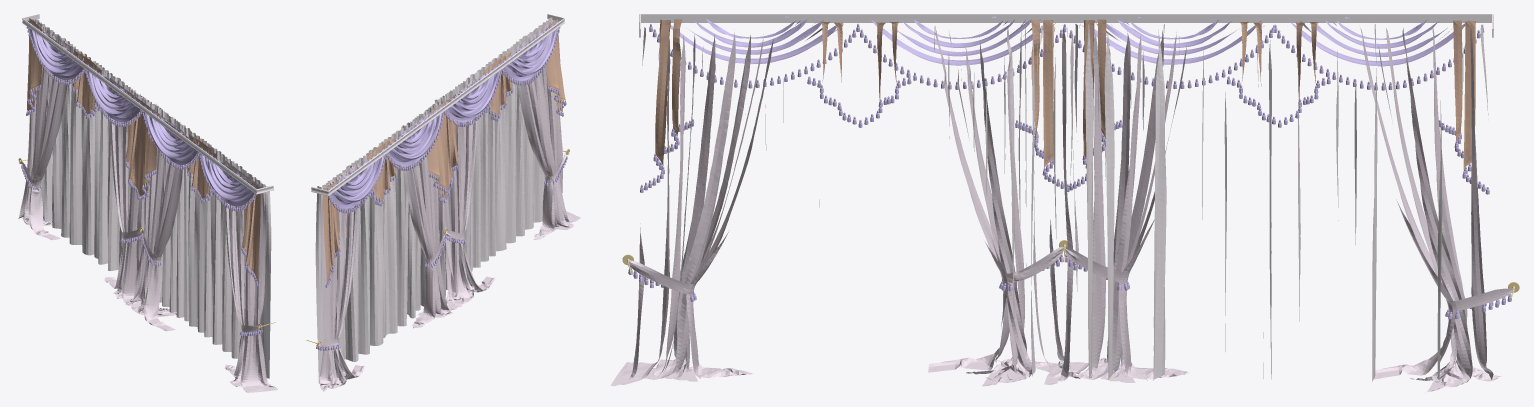
Rendered from curtain.glb.
3 views of the same model, side by side, from view 1: azimuth 30°, elevation 25°; view 2: azimuth 150°, elevation 25°; view 3: azimuth 270°, elevation 25° (orthographic). The views are drawn at different scales.
Parts seen in each view (by area): view 1: 2, 1, 4, 3, cornice, brush1, brush2, brush3; view 2: 2, 1, 4, 3, cornice, brush1, brush2, brush3; view 3: 1, 2, 3, 4, cornice, brush2, brush1, brush3.
Boxes of the visible parts, x1=… form: 2: x1=35, y1=19, x2=271, y2=378; 1: x1=18, y1=19, x2=277, y2=392; 4: x1=27, y1=20, x2=256, y2=206; 3: x1=27, y1=18, x2=260, y2=280; cornice: x1=22, y1=14, x2=273, y2=194; brush1: x1=26, y1=27, x2=256, y2=211; brush2: x1=26, y1=83, x2=258, y2=286; brush3: x1=21, y1=163, x2=262, y2=335; 2: x1=315, y1=17, x2=552, y2=383; 1: x1=319, y1=20, x2=580, y2=391; 4: x1=328, y1=20, x2=559, y2=208; 3: x1=322, y1=19, x2=565, y2=282; cornice: x1=311, y1=14, x2=564, y2=195; brush1: x1=328, y1=27, x2=560, y2=213; brush2: x1=325, y1=83, x2=566, y2=287; brush3: x1=316, y1=155, x2=567, y2=350; 1: x1=610, y1=25, x2=1514, y2=391; 2: x1=642, y1=23, x2=1488, y2=381; 3: x1=655, y1=19, x2=1475, y2=169; 4: x1=670, y1=16, x2=1468, y2=66; cornice: x1=639, y1=14, x2=1493, y2=37; brush2: x1=640, y1=76, x2=1489, y2=194; brush1: x1=649, y1=23, x2=1484, y2=90; brush3: x1=628, y1=254, x2=1511, y2=319.
Size of the model in its own units: 536 by 2694 by 6166.
